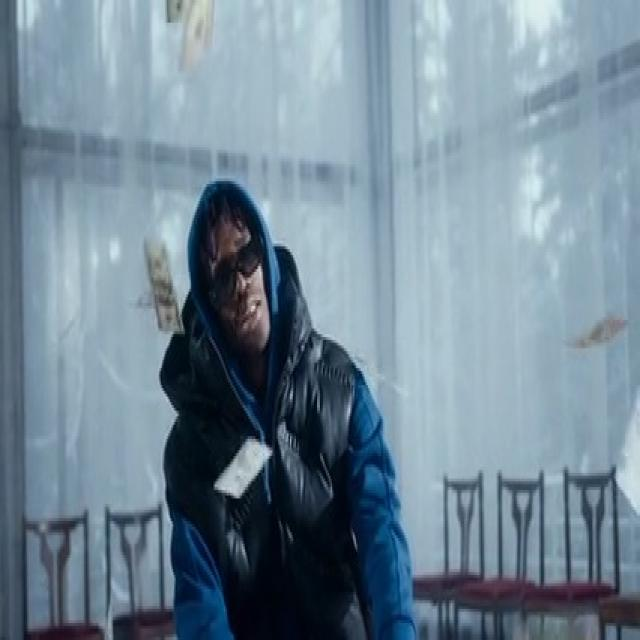Jacket_Wearer: (153, 286, 398, 640)
Person: (154, 135, 419, 640)
